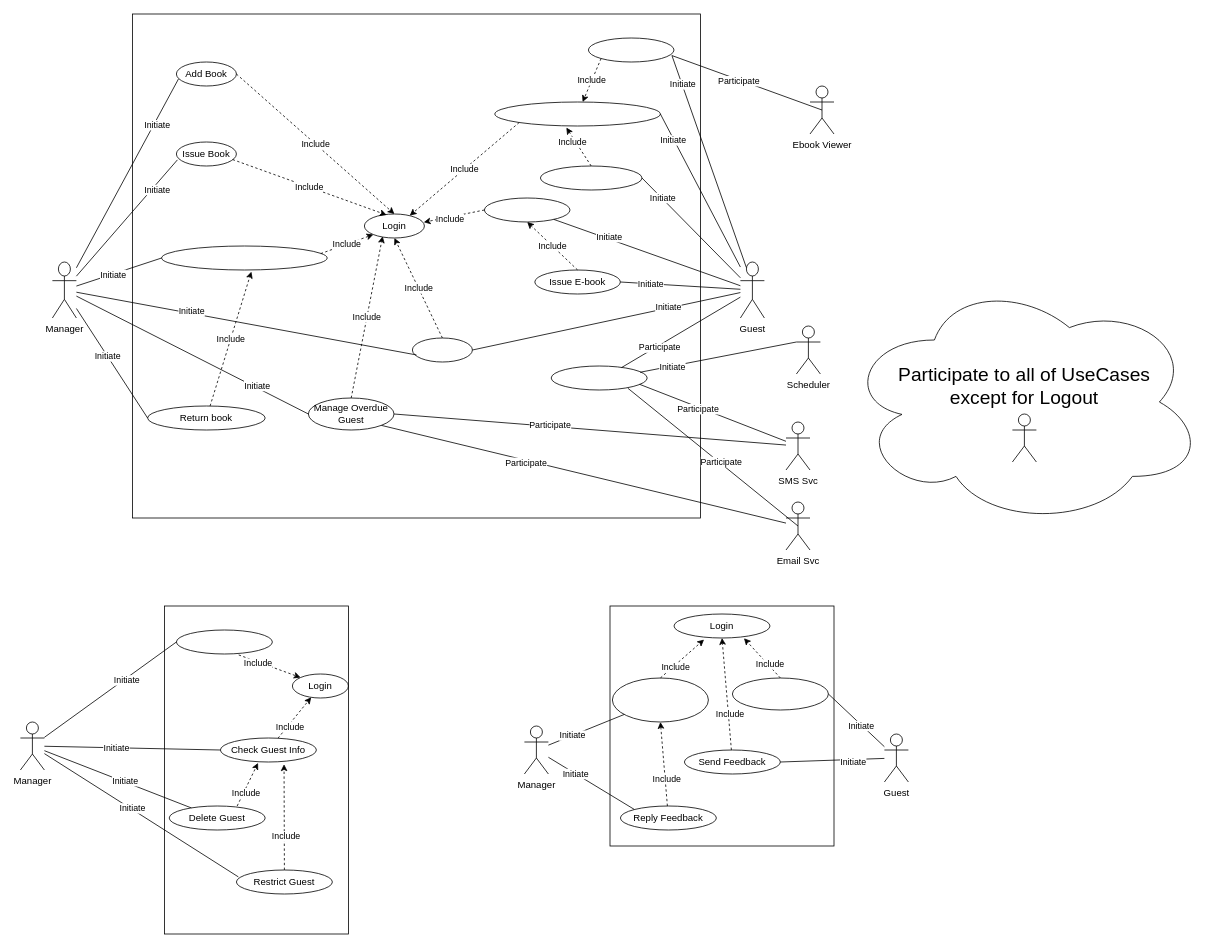
Some shapes in this 1218 by 948 pixel diagram are drawn without their labels. Each missing label, with the centre of its shape:
"Add Guest" belongs at point (224, 641).
"Automated Due Management" belongs at point (598, 377).
"Check Book Info" belongs at point (527, 209).
"Check Feedback(Guest)" belongs at point (780, 693).
"Check Feedback(Manager)" belongs at point (660, 699).
"Check Issue Info(Guest)" belongs at point (577, 113).
"Check Issue Info(Manager)" belongs at point (244, 257).
"Database" belongs at point (1024, 437).
"E-book Reading" belongs at point (631, 49).
"Extend Issue Period" belongs at point (591, 177).
"Log out" belongs at point (442, 349).
